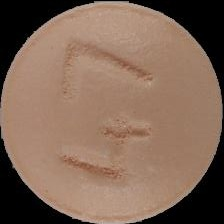0781-1764: (0, 0, 224, 224)
